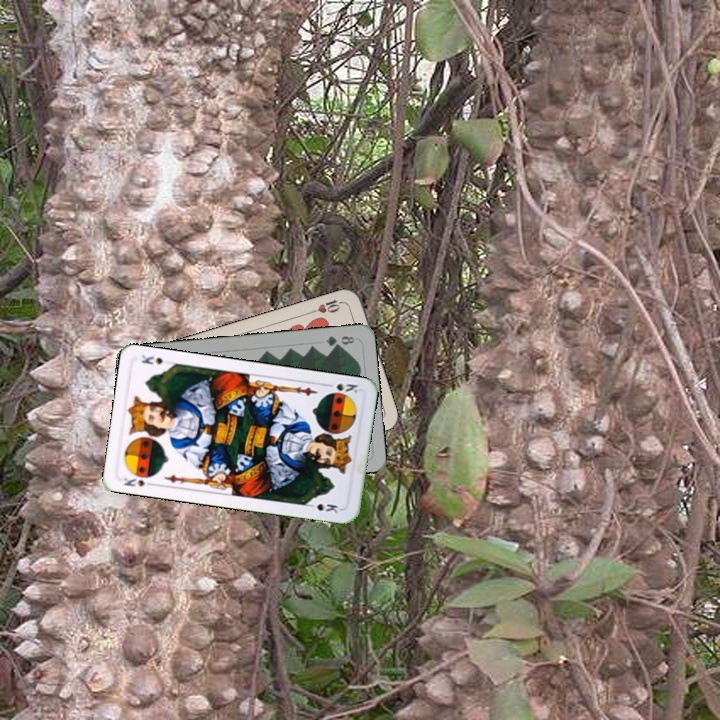G8: (321, 332, 357, 349)
H10: (307, 295, 348, 316)
SK: (321, 379, 360, 395), (120, 473, 158, 489)
